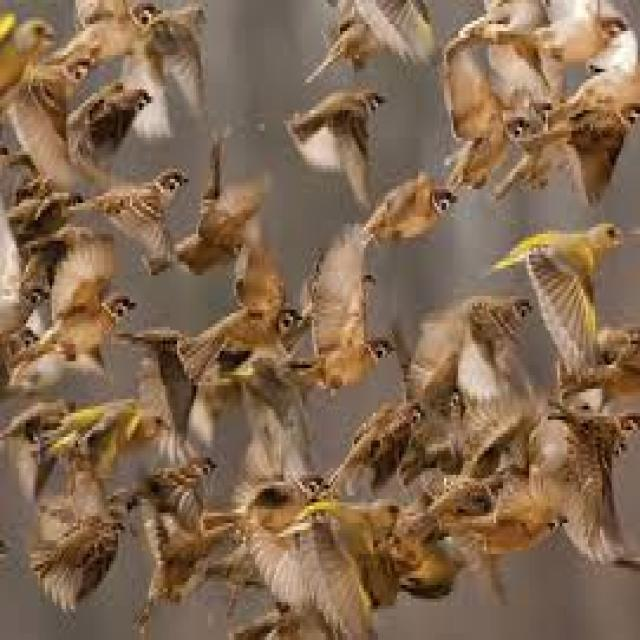bird: (261, 220, 397, 400), (13, 237, 138, 386), (199, 230, 303, 360), (281, 81, 387, 206), (543, 72, 640, 206), (407, 294, 536, 394), (448, 48, 533, 197), (70, 169, 188, 260), (5, 54, 95, 170), (318, 396, 424, 493), (118, 449, 222, 538), (52, 85, 156, 170), (36, 0, 156, 67), (362, 170, 459, 244), (0, 272, 49, 335), (0, 328, 37, 393)
